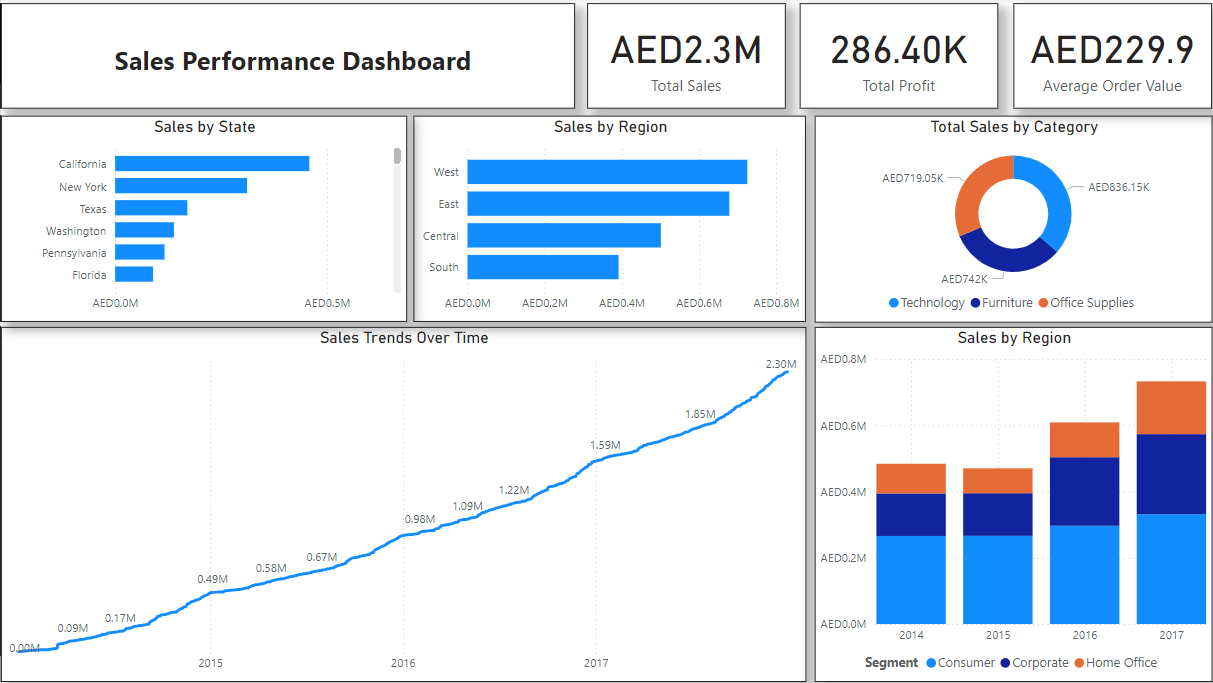

The page's visual inventory and layout, read from the dashboard file:
{"tool":"powerbi","page":{"name":"Overview Page","canvas":[1280,720],"ordinal":0},"visuals":[{"type":"textbox","box":[0,6.6,601.4,110.1],"z":0},{"type":"card","fields":{"Values":["Sample - Superstore.Total Sales"]},"box":[614.5,6.6,208.3,110.1],"z":1000},{"type":"card","fields":{"Values":["Sample - Superstore.Total Profit"]},"box":[837.2,6.6,208.3,110.1],"z":2000},{"type":"lineChart","title":"Sales Trends Over Time","fields":{"Y":["Date.Sales running total in Order Date"],"Category":["Sample - Superstore.Order Date"]},"box":[0,345.9,843.7,372.1],"z":3000},{"type":"barChart","title":"Sales by Region","fields":{"Y":["Sample - Superstore.Sales by Region"],"Category":["Sample - Superstore.Region"]},"box":[432.3,124.5,411.4,216.2],"z":4000},{"type":"donutChart","fields":{"Y":["Sample - Superstore.Total Sales"],"Category":["Sample - Superstore.Category"]},"box":[852.3,124.7,417,216.4],"z":5000},{"type":"barChart","title":"Sales by State","fields":{"Y":["Sample - Superstore.Total Sales"],"Category":["Sample - Superstore.State"]},"box":[0,124.5,425.8,216.2],"z":6000},{"type":"columnChart","title":"Sales by Region","fields":{"Y":["Sample - Superstore.Total Sales"],"Category":["Sample - Superstore.Order Date.Variation.Date Hierarchy.Year"],"Series":["Sample - Superstore.Segment"]},"box":[852.9,345.9,416.6,372.1],"z":7000},{"type":"card","fields":{"Values":["Sample - Superstore.Average Order Value"]},"box":[1061.2,6.6,208.3,110.1],"z":8000}]}

Visuals, with their boxes in screenshot pixels (x1, y1, x2, y2), scaled from the page's 1280x720 canvas onto the 1213x683 screenshot:
textbox: {"left": 0, "top": 6, "right": 570, "bottom": 111}
card - Sample - Superstore.Total Sales: {"left": 582, "top": 6, "right": 780, "bottom": 111}
card - Sample - Superstore.Total Profit: {"left": 793, "top": 6, "right": 991, "bottom": 111}
"Sales Trends Over Time" lineChart: {"left": 0, "top": 328, "right": 800, "bottom": 681}
"Sales by Region" barChart: {"left": 410, "top": 118, "right": 800, "bottom": 323}
donutChart - Sample - Superstore.Total Sales x Sample - Superstore.Category: {"left": 808, "top": 118, "right": 1203, "bottom": 324}
"Sales by State" barChart: {"left": 0, "top": 118, "right": 404, "bottom": 323}
"Sales by Region" columnChart: {"left": 808, "top": 328, "right": 1203, "bottom": 681}
card - Sample - Superstore.Average Order Value: {"left": 1006, "top": 6, "right": 1203, "bottom": 111}
